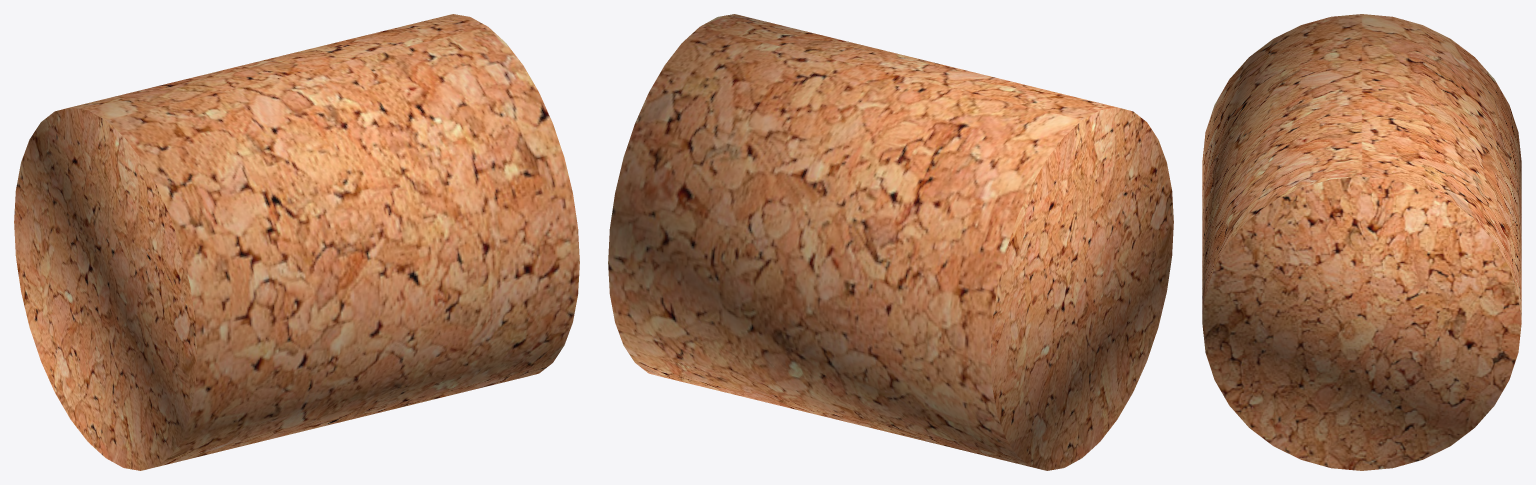
The model's file is cork.glb.
The picture shows the model from 3 angles, left to right: view 1: azimuth 30°, elevation 25°; view 2: azimuth 150°, elevation 25°; view 3: azimuth 270°, elevation 25°; orthographic projection. The views are drawn at different scales.
Parts seen in each view (by area): view 1: 円柱; view 2: 円柱; view 3: 円柱.
Boxes of the visible parts, box(x1,y1,x2,y2) form: 円柱: box(14, 14, 579, 470); 円柱: box(608, 14, 1173, 470); 円柱: box(1202, 14, 1521, 470).
Bounding box in the file's own units: 0.5678 × 0.4795 × 0.4711.
1 material, 1 textured.
